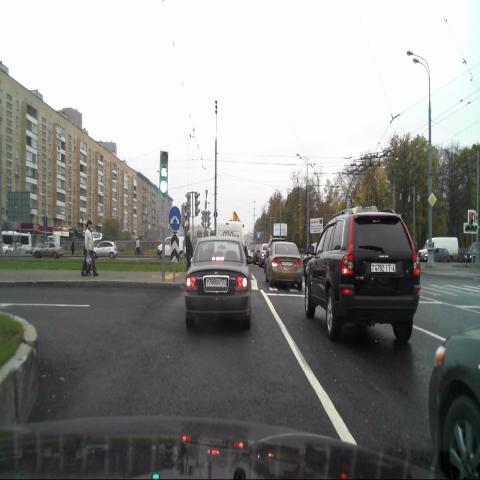4_2_3: (169, 206, 181, 231)
